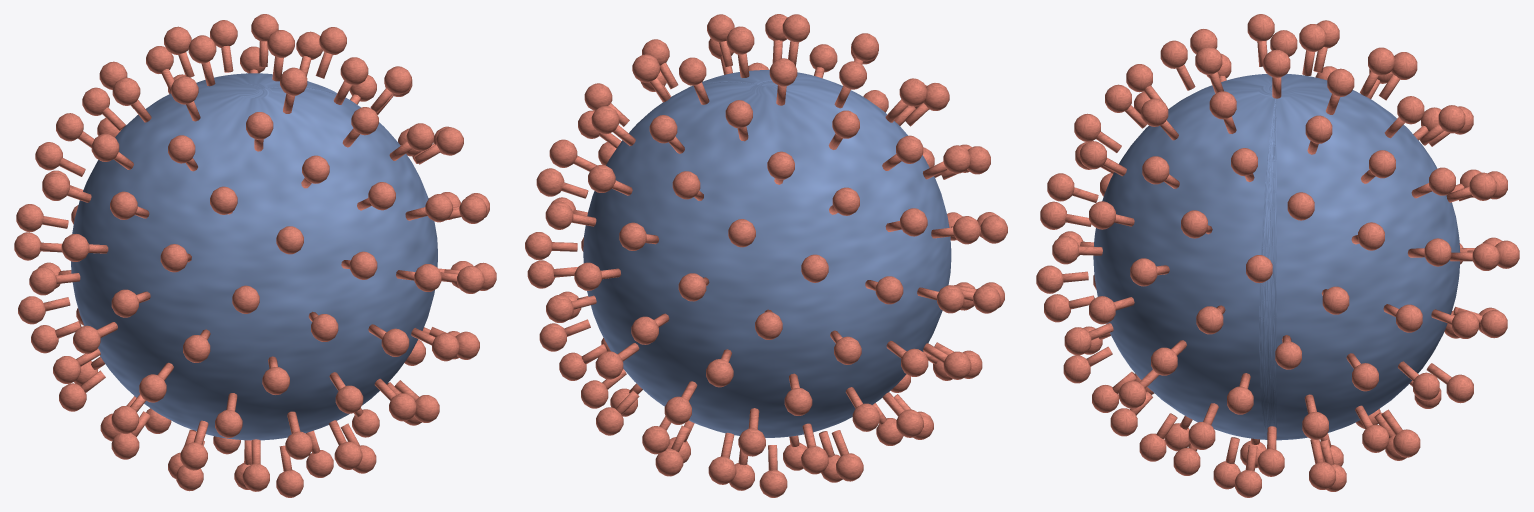
Rendered from complete.glb.
3 views of the same model, side by side, from view 1: azimuth 30°, elevation 25°; view 2: azimuth 150°, elevation 25°; view 3: azimuth 270°, elevation 25° (orthographic).
Parts seen in each view (by area): view 1: envelope_mesh, espiculas_mesh; view 2: envelope_mesh, espiculas_mesh; view 3: envelope_mesh, espiculas_mesh.
Part boxes in pixels (x1,y1,x2,y2): envelope_mesh: (71, 73, 437, 440); espiculas_mesh: (14, 14, 496, 497); envelope_mesh: (583, 70, 951, 437); espiculas_mesh: (525, 14, 1007, 497); envelope_mesh: (1093, 74, 1460, 440); espiculas_mesh: (1036, 14, 1519, 497).
Bounding box in the file's own units: 2.64 × 2.63 × 2.63.
Materials: 5 (5 with a texture image).
